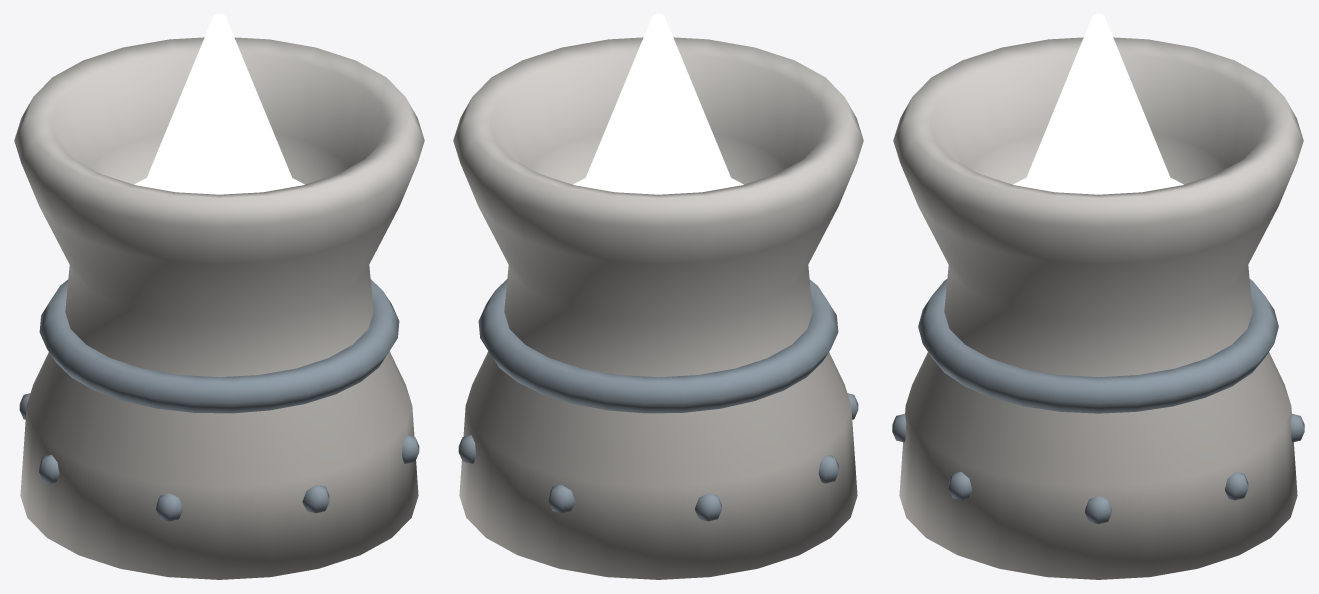
File: part_jet_vent.glb
3 views of the same model, side by side, from view 1: azimuth 30°, elevation 25°; view 2: azimuth 150°, elevation 25°; view 3: azimuth 270°, elevation 25° (orthographic).
Visible parts, largest first — view 1: part_jet_vent_painted_mesh; view 2: part_jet_vent_painted_mesh; view 3: part_jet_vent_painted_mesh.
Part boxes in pixels (x1,y1,x2,y2): part_jet_vent_painted_mesh: (14, 14, 424, 579); part_jet_vent_painted_mesh: (453, 14, 863, 579); part_jet_vent_painted_mesh: (892, 14, 1304, 579).
Bounding box in the file's own units: 0.67 × 0.85 × 0.6633.
